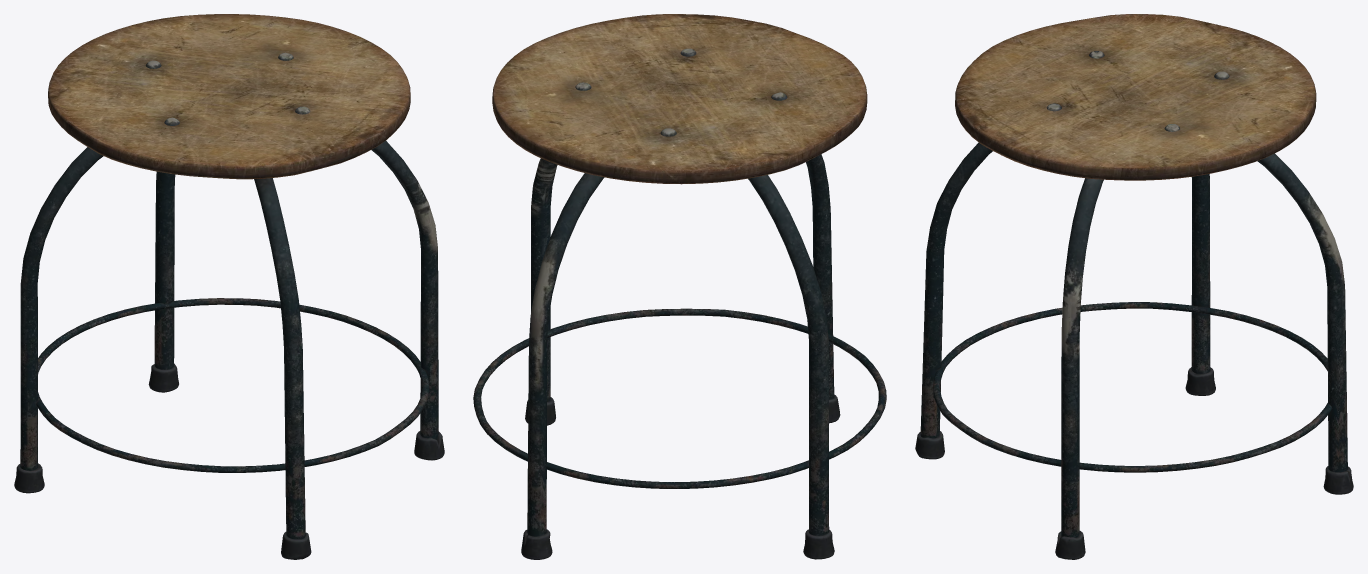
File: metal_stool_02.glb
3 views of the same model, side by side, from view 1: azimuth 30°, elevation 25°; view 2: azimuth 150°, elevation 25°; view 3: azimuth 270°, elevation 25° (orthographic). The views are drawn at different scales.
Visible parts, largest first — view 1: metal_stool_02; view 2: metal_stool_02; view 3: metal_stool_02.
Boxes of the visible parts, box(x1,y1,x2,y2) form: metal_stool_02: box(14, 14, 444, 559); metal_stool_02: box(473, 14, 886, 559); metal_stool_02: box(915, 14, 1353, 559).
Size of the model in its own units: 0.4481 by 0.4581 by 0.4731.
Materials: 1 (1 with a texture image).
